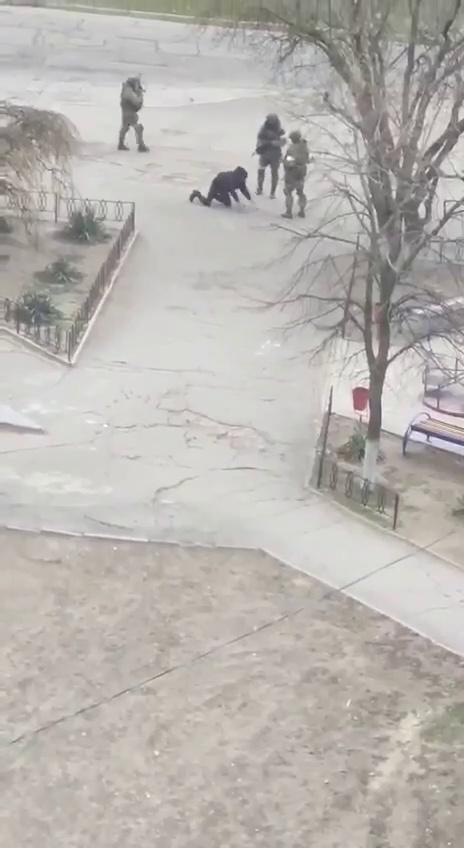person: (251, 114, 288, 200), (280, 130, 312, 218), (190, 166, 253, 210), (117, 76, 151, 152)
